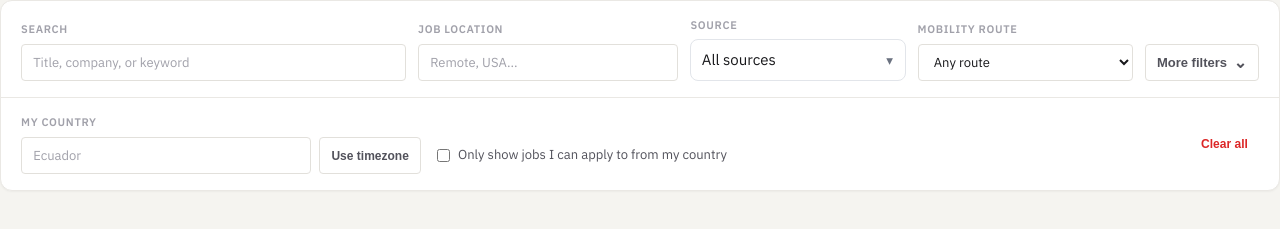
Test: JobFiltersComponent › renders an option per source plus the "All sources" default
Focus the dropdown with class "combobox-input" at x=798, y=60, box x1=690 y1=39 x2=906 y2=81
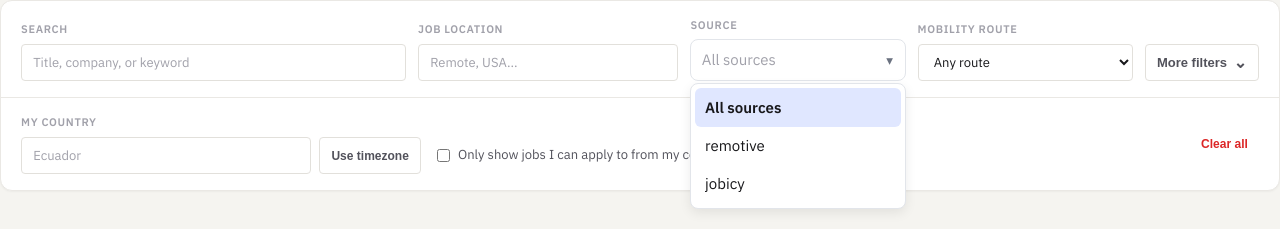
Now the option with class "combobox-option" reads "All sources", box x1=695 y1=88 x2=901 y2=127
